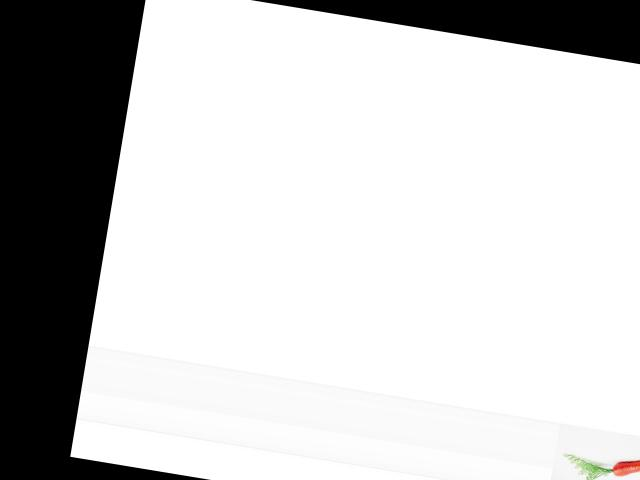carrot: (608, 446, 640, 480)
